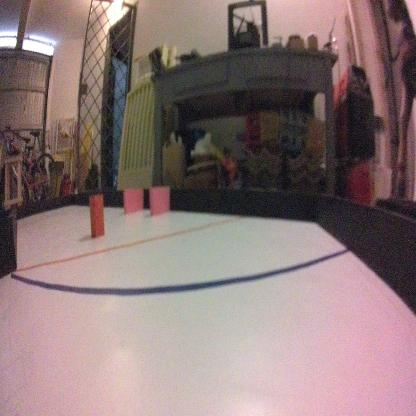magenta: (147, 184, 171, 223), (122, 182, 143, 217)
red: (90, 194, 106, 238)
